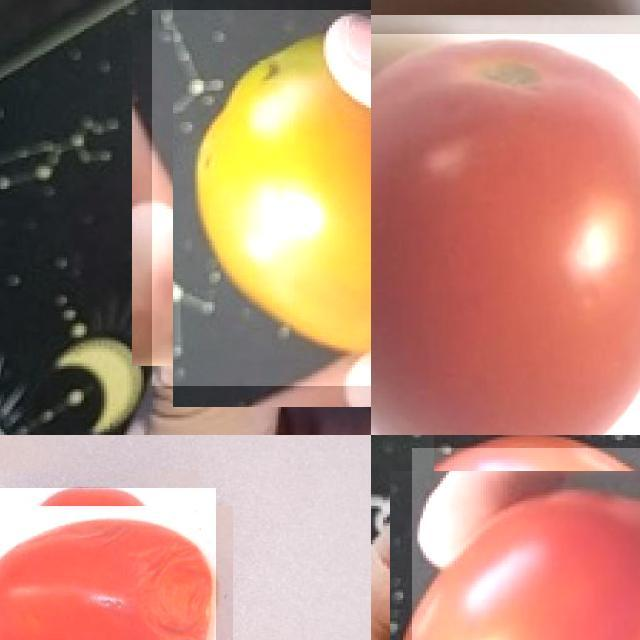Fresh Tomato: (371, 34, 640, 435), (412, 448, 640, 640)
Rotten Tomato: (152, 9, 371, 386), (0, 487, 215, 640)
